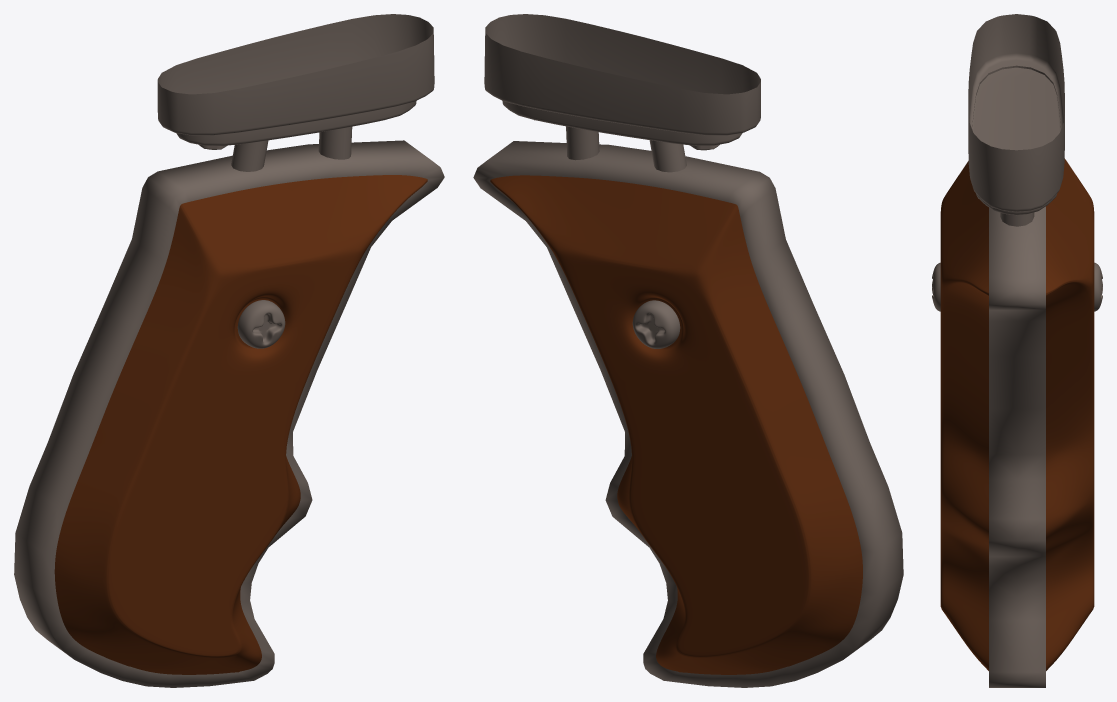
Rendered from grip_04.fbx.
The picture shows the model from 3 angles, left to right: view 1: azimuth 30°, elevation 25°; view 2: azimuth 150°, elevation 25°; view 3: azimuth 270°, elevation 25°; orthographic projection. The views are drawn at different scales.
Parts seen in each view (by area): view 1: Plane.084, Plane.085, AK47.013, Circle.074, Circle.121, Circle.120; view 2: Plane.084, Plane.085, AK47.013, Circle.074, Circle.121, Circle.120; view 3: Plane.084, Plane.085, AK47.013, Circle.074, Circle.121.
Boxes of the visible parts, bbox=[...] form: Plane.084: bbox=[54, 175, 427, 674]; Plane.085: bbox=[14, 140, 444, 687]; AK47.013: bbox=[157, 14, 434, 145]; Circle.074: bbox=[237, 300, 285, 348]; Circle.121: bbox=[318, 126, 352, 159]; Circle.120: bbox=[231, 140, 268, 171]; Plane.084: bbox=[490, 175, 862, 674]; Plane.085: bbox=[473, 141, 903, 687]; AK47.013: bbox=[484, 14, 760, 145]; Circle.074: bbox=[632, 300, 680, 348]; Circle.121: bbox=[566, 126, 599, 160]; Circle.120: bbox=[649, 140, 686, 172]; Plane.084: bbox=[940, 158, 1094, 670]; Plane.085: bbox=[989, 206, 1045, 687]; AK47.013: bbox=[968, 14, 1064, 215]; Circle.074: bbox=[932, 262, 1102, 311]; Circle.121: bbox=[1000, 212, 1034, 226].
Size of the model in its own units: 32.86 by 46.94 by 11.53.
